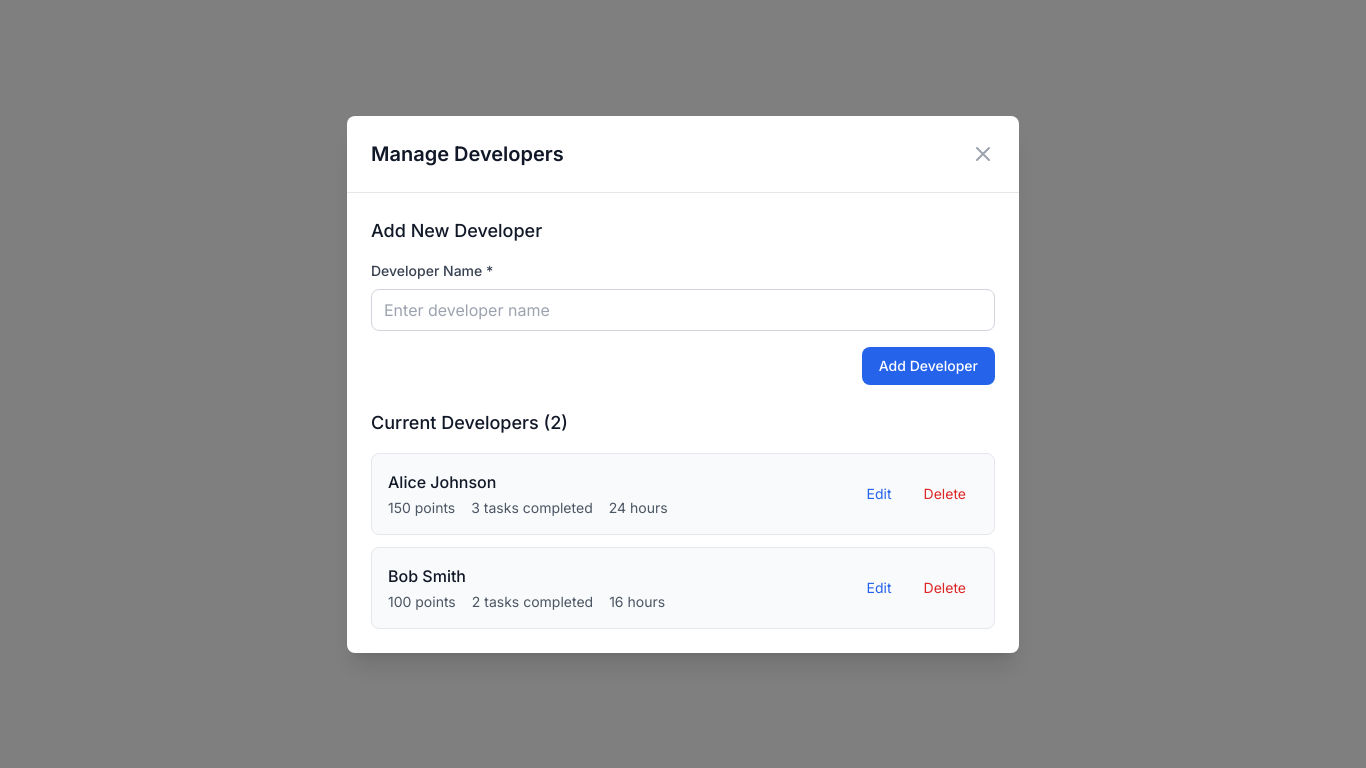
Test case: DeveloperManagementModal › Adding Developers › should show validation error for short name
This screenshot has width=1366, height=768.
Type "A" into the field labelled "Developer Name *". click: (683, 310)
box: [371,288,995,330]
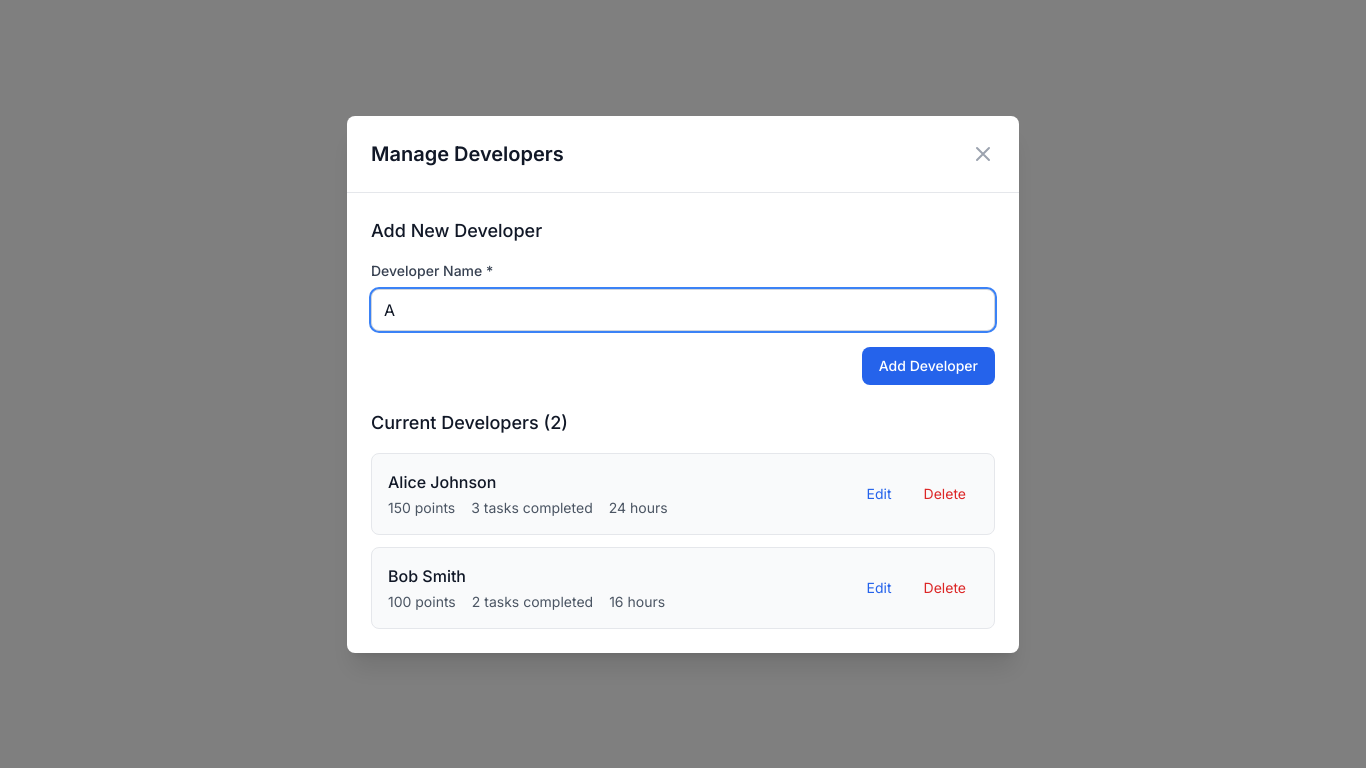
Click the button "Add Developer". click: (928, 366)
box: [862,346,995,384]
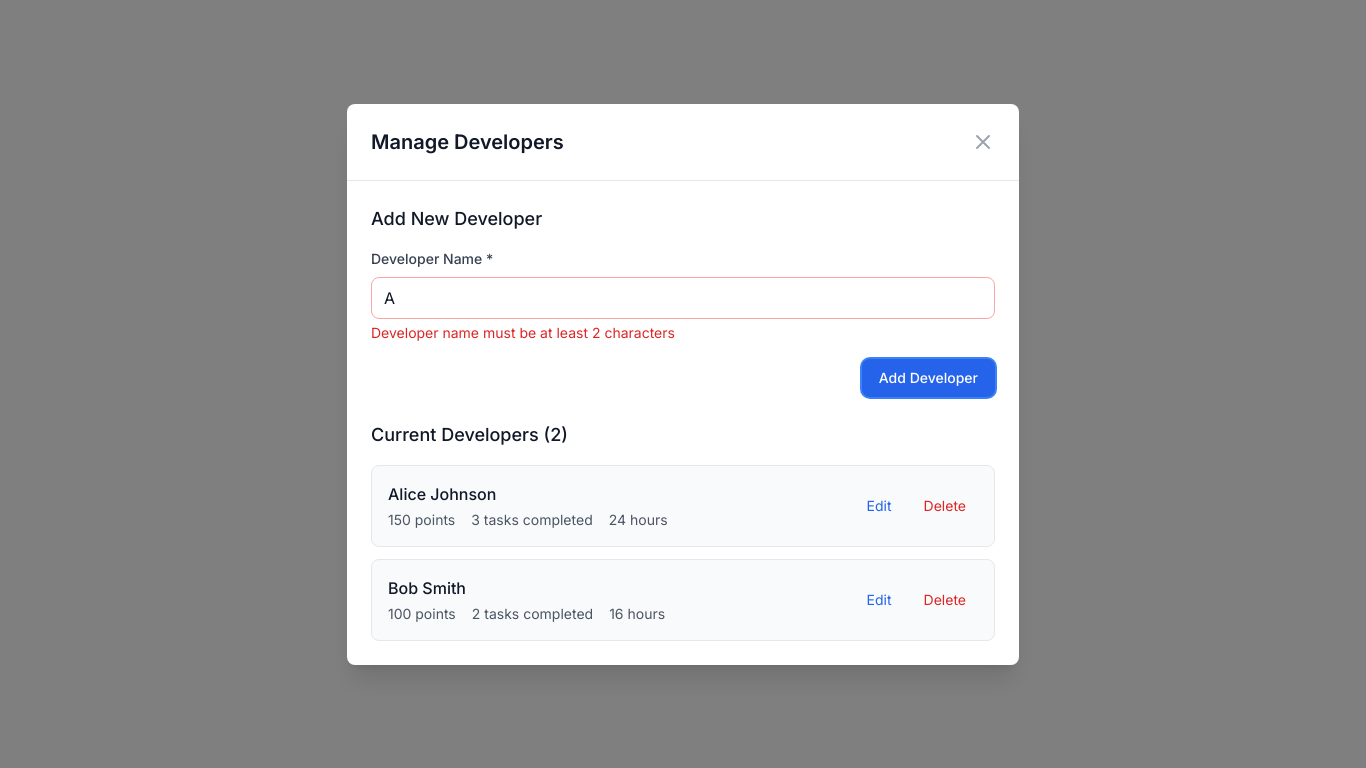
Check: the text "Developer name must be at least 2 characters" is shown, box [371,324,675,340]
